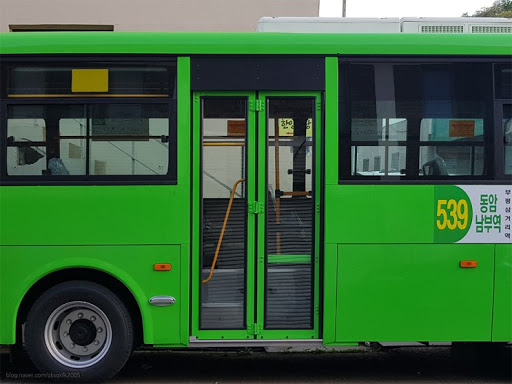entrance: (190, 89, 326, 340)
